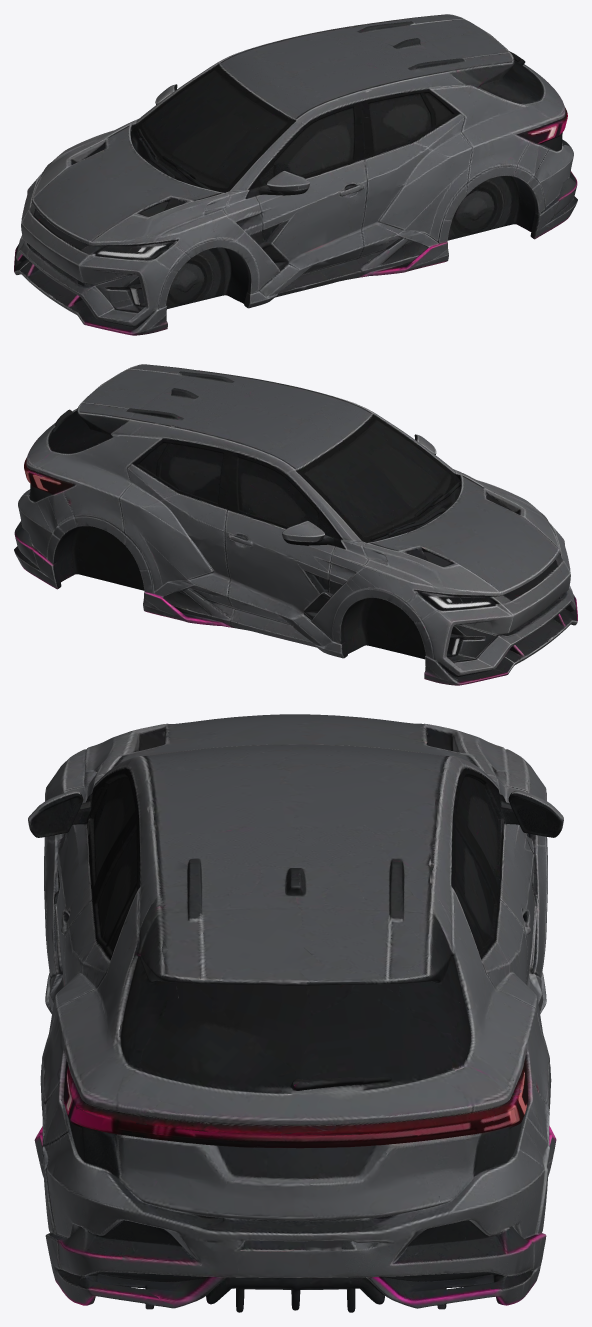
The model's file is Meshy_AI_Neon_Apex_Crossover_0918161534_texture-optimized.glb.
3 views of the same model, one above another, from view 1: azimuth 30°, elevation 25°; view 2: azimuth 150°, elevation 25°; view 3: azimuth 270°, elevation 25° (orthographic). The views are drawn at different scales.
Bounding box in the file's own units: 1.9 × 0.6305 × 0.8881.
Materials: 1 (1 with a texture image).
